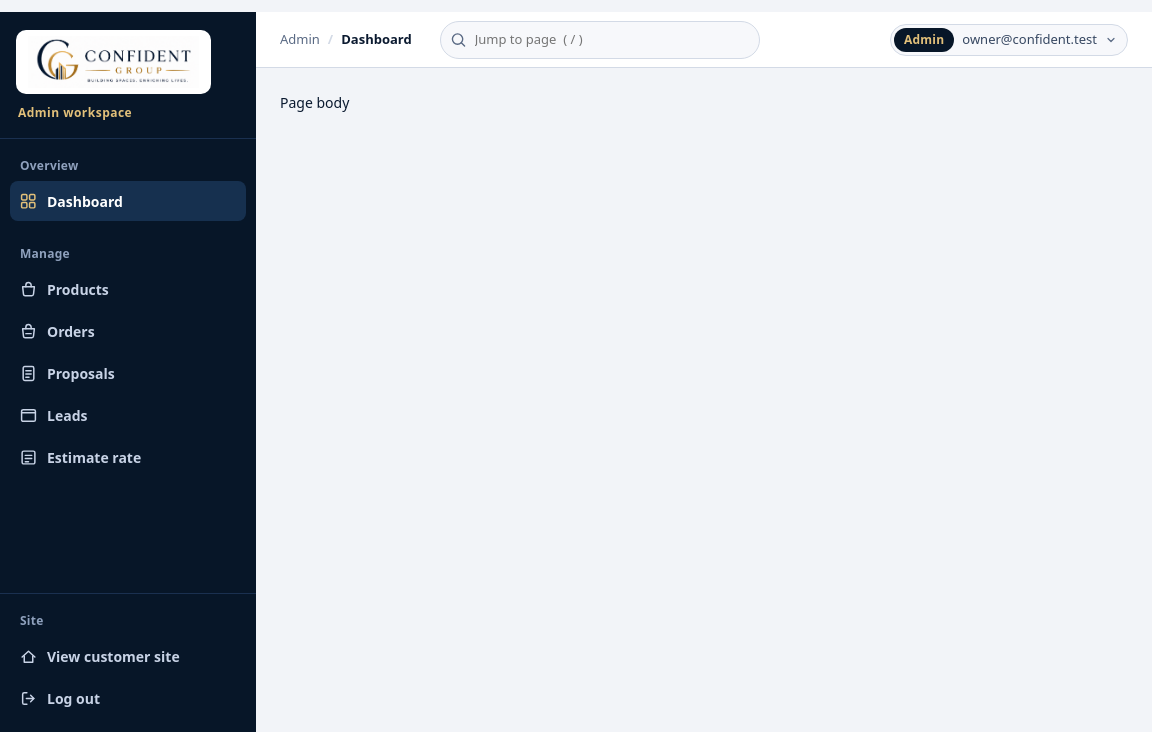
it: AdminLayoutComponent › sidebar badges, user menu and jump search › jumps to a page from the header search: matches by name and opens the first match on Enter
This screenshot has width=1152, height=732.
Type "ord" into the search field with class "admin-jump-input" at (600, 40), box [440, 20, 760, 58]
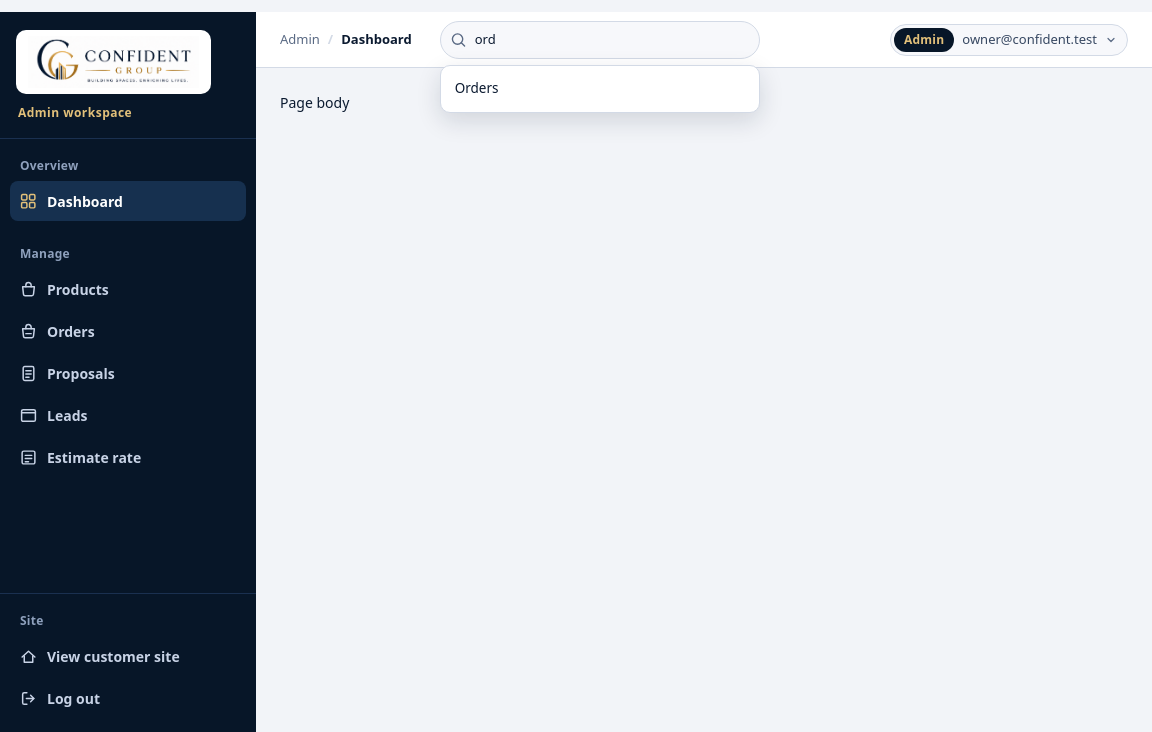
Press Enter in the search field with class "admin-jump-input", box [440, 20, 760, 58]
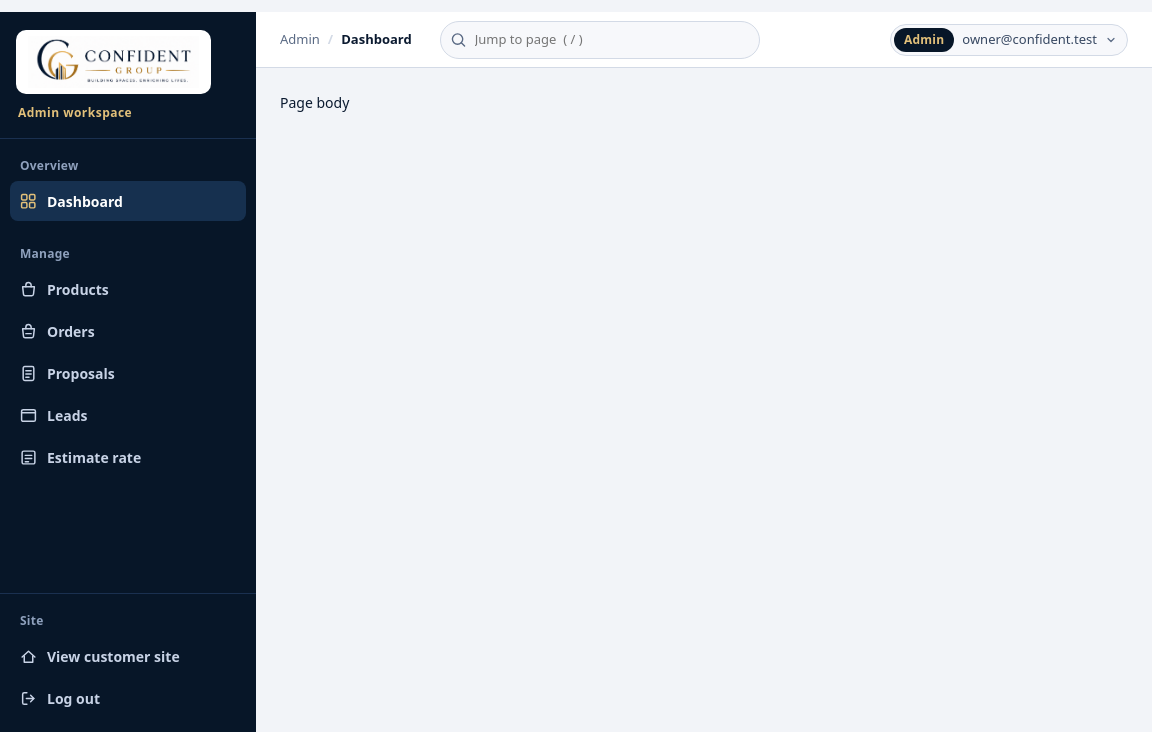
Expected: the list with class "admin-jump-results" is gone
Type "zzz" into the search field with class "admin-jump-input" at (600, 40), box [440, 20, 760, 58]
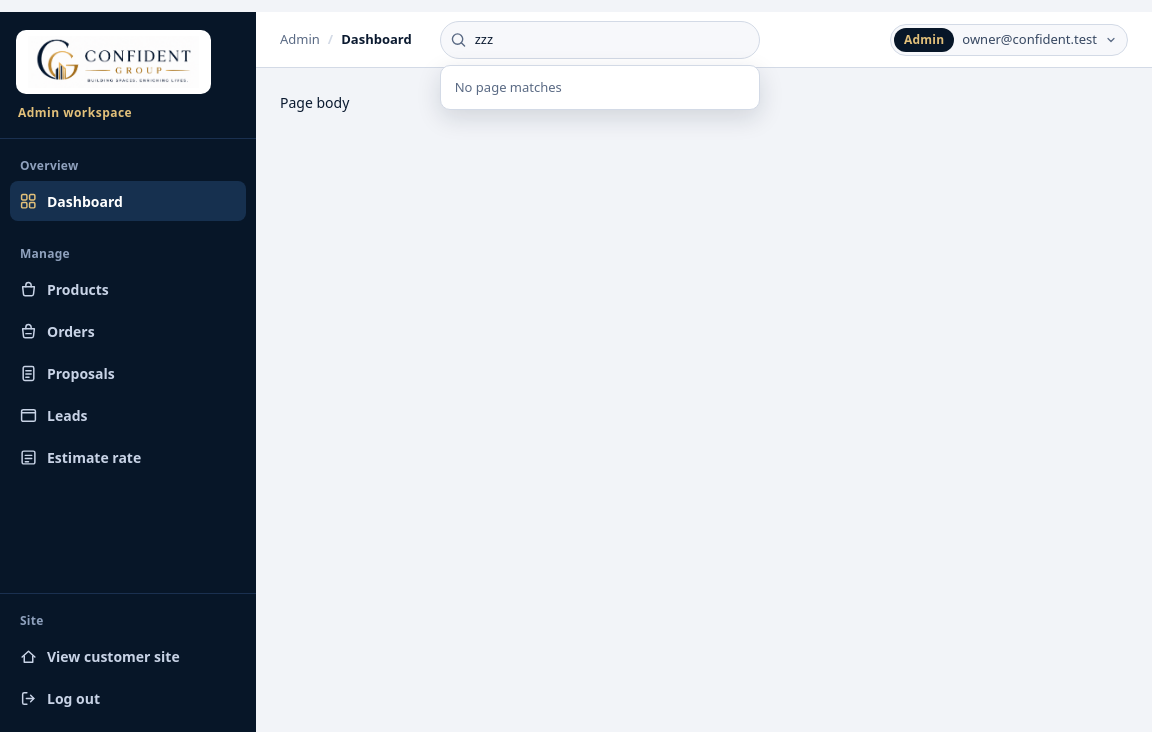
Expected: the list item with class "admin-jump-none" reads "No page matches", [455, 78, 562, 96]
